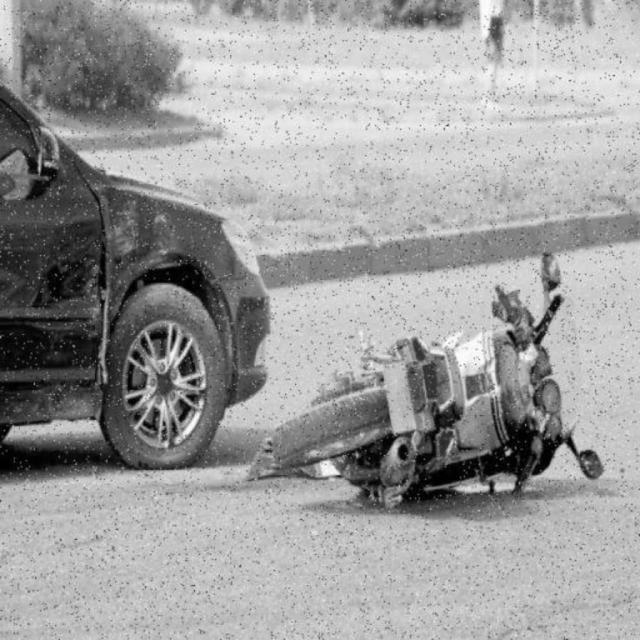vehicle: (2, 88, 268, 452), (283, 288, 607, 500)
